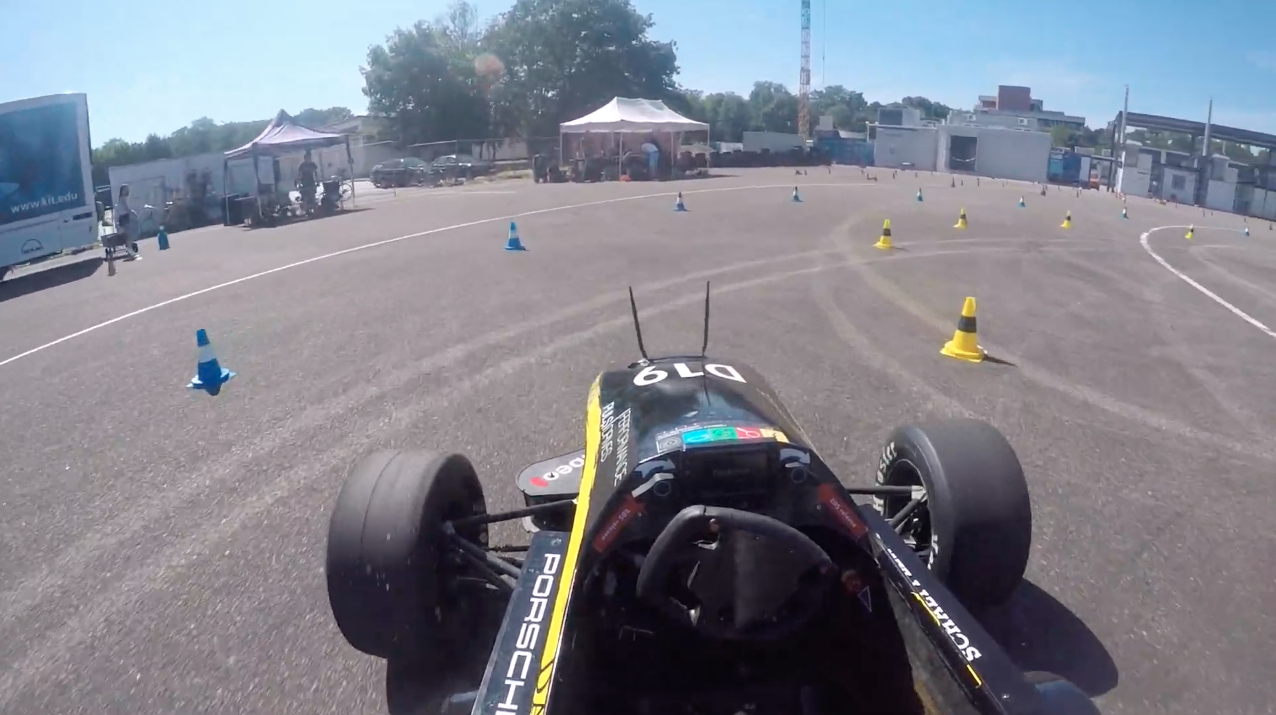lcone: (186, 327, 237, 391), (500, 217, 527, 252), (672, 189, 690, 214)
rcone: (938, 293, 991, 364), (873, 215, 900, 252), (950, 206, 973, 233)
